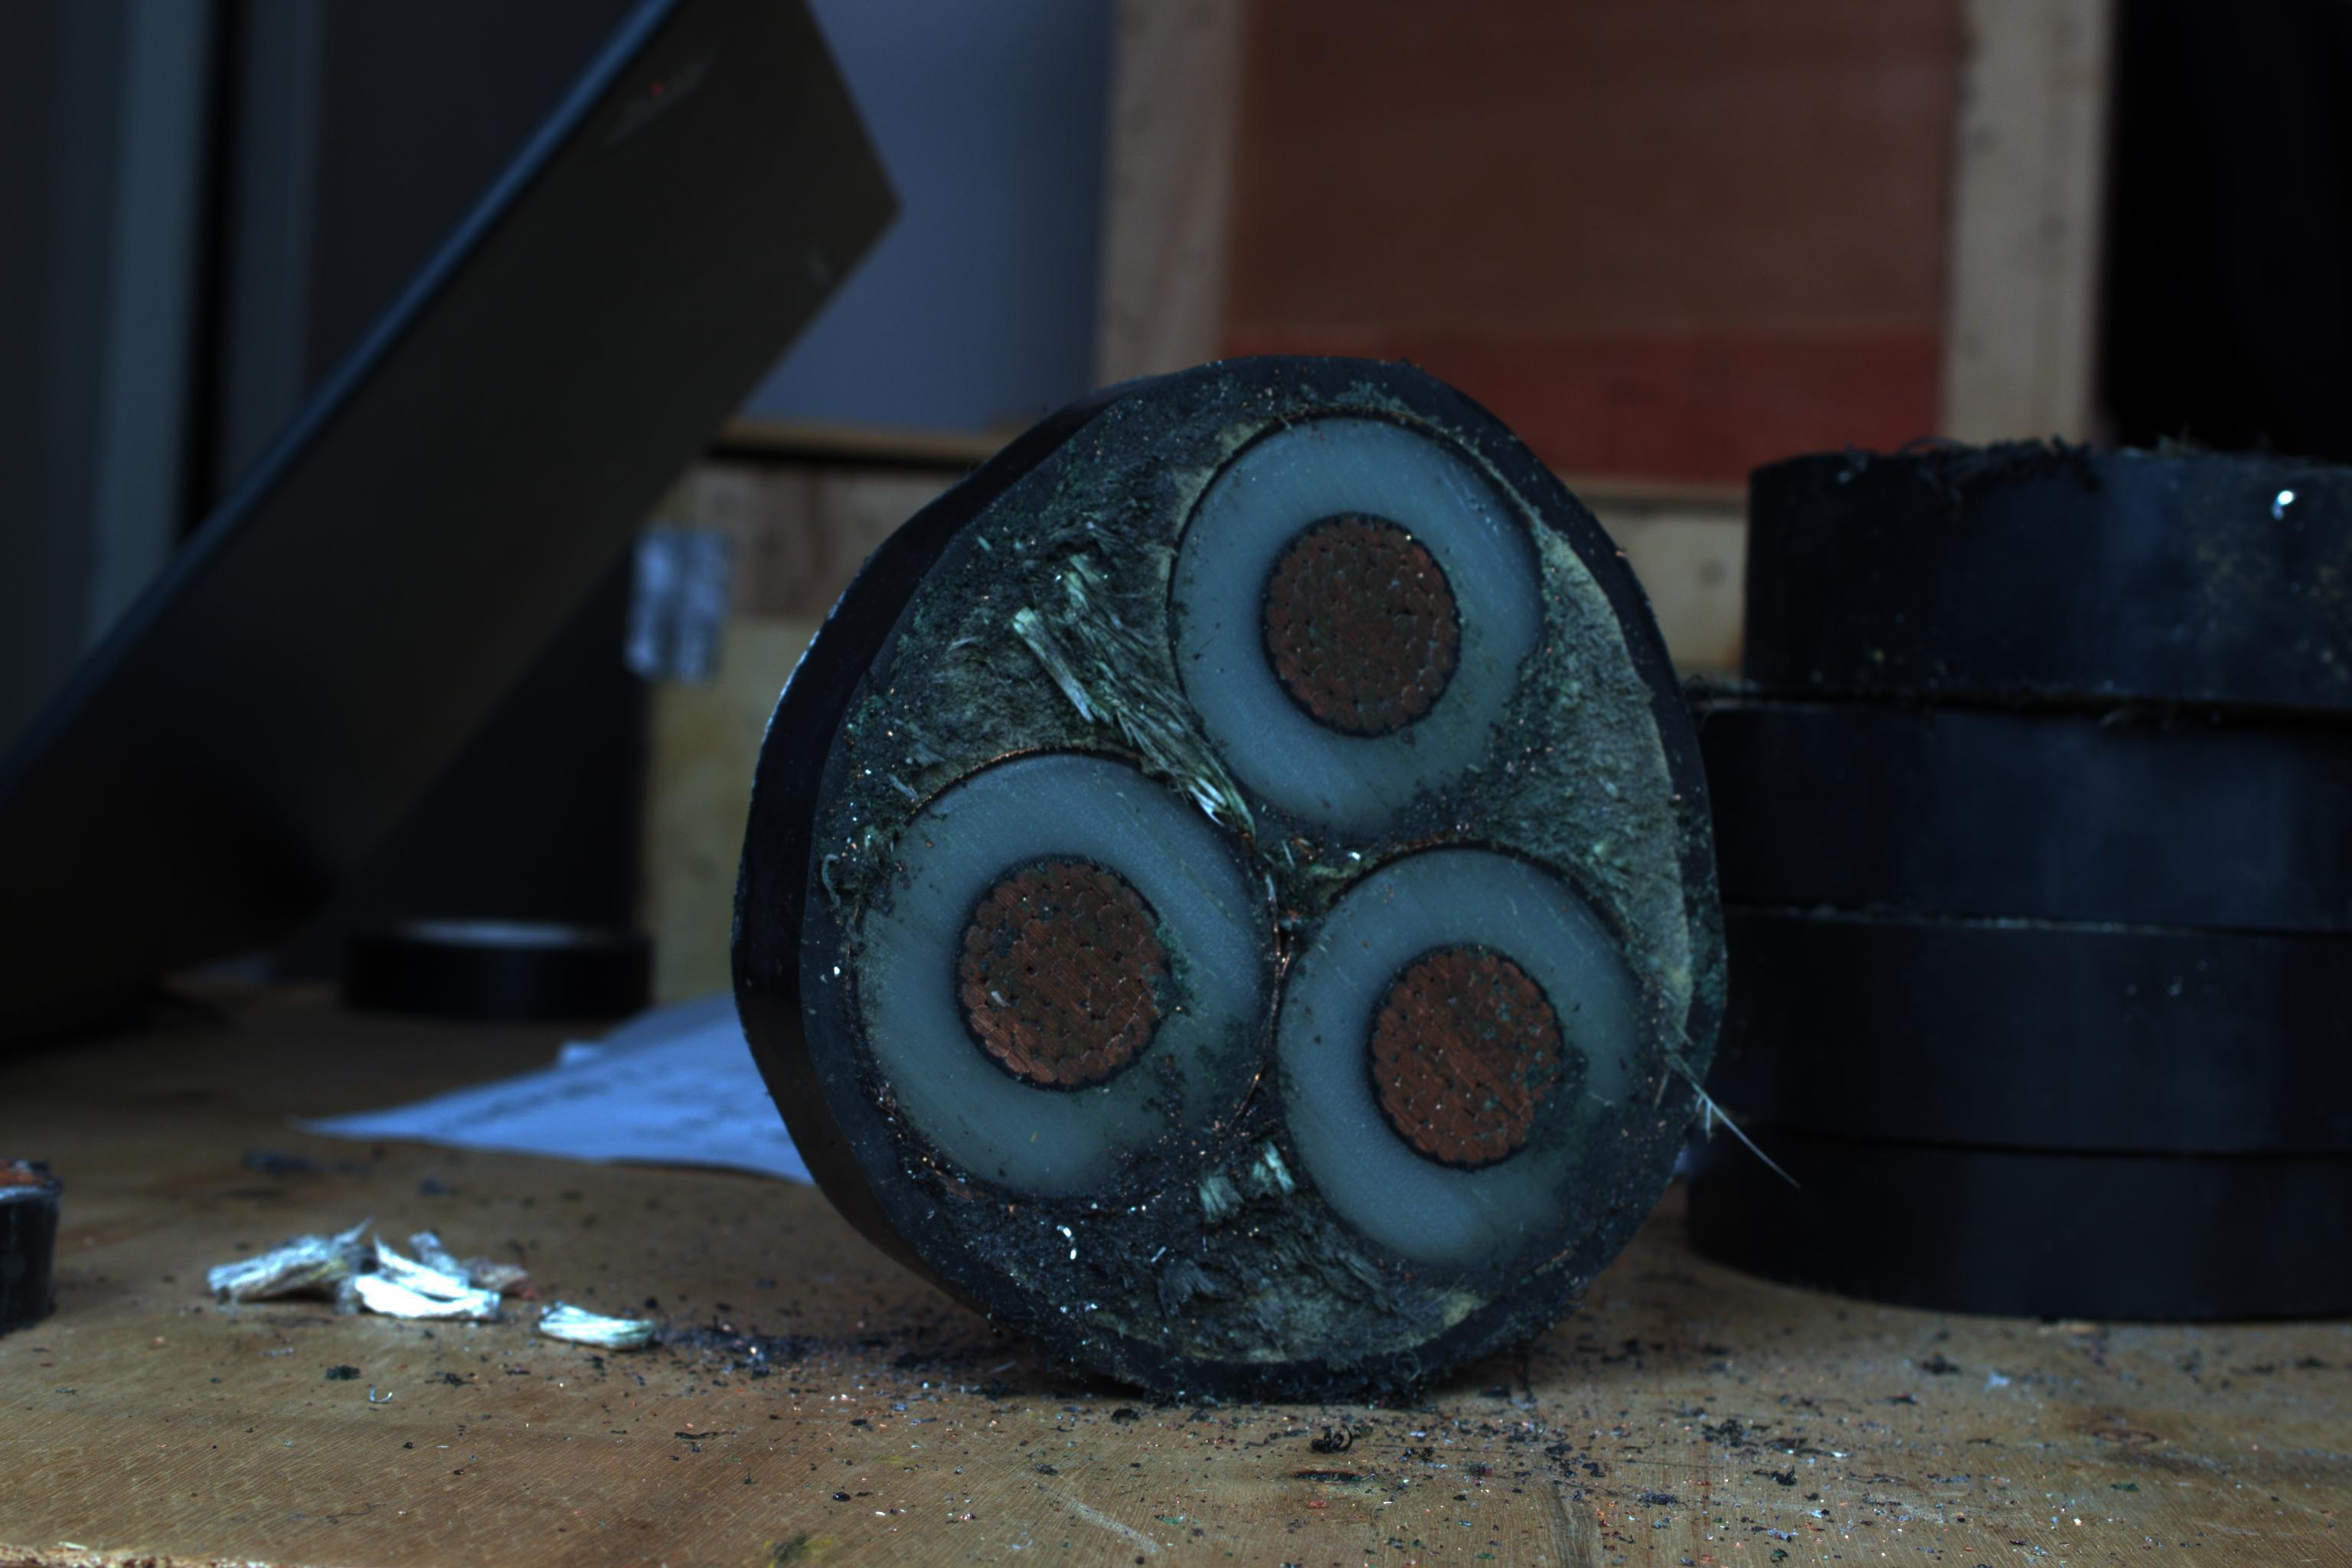ZA_YJV_26_35kV_3x400: (754, 367, 1762, 1396)
